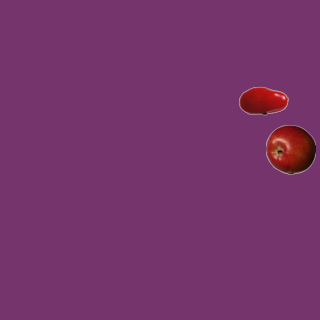Apple Braeburn: (265, 124, 315, 174)
Tomato 2: (238, 75, 288, 125)
